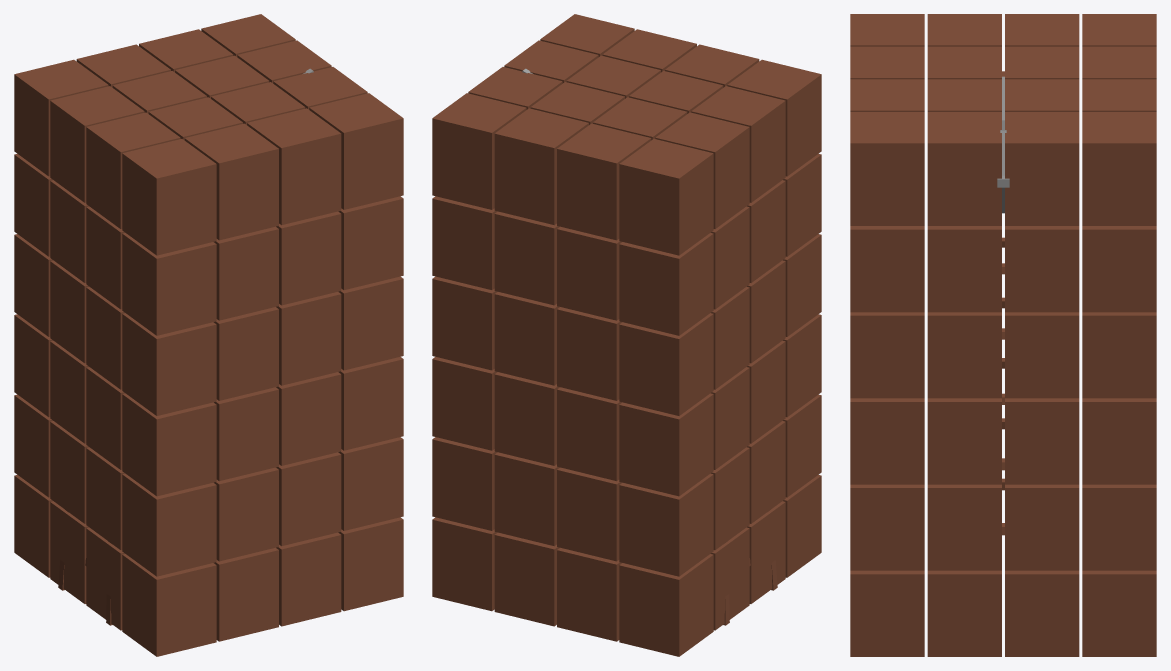
Rendered from Windmill_destructible.gltf.
3 renders of one model, left to right at view 1: azimuth 30°, elevation 25°; view 2: azimuth 150°, elevation 25°; view 3: azimuth 270°, elevation 25°, orthographic. The views are drawn at different scales.
Parts seen in each view (by area): view 1: block_f5_r3_c0, block_f3_r3_c0, block_f4_r3_c0, block_f0_r3_c0, block_f1_r3_c0, block_f2_r3_c0, block_f5_r3_c1, block_f5_r3_c2, block_f5_r3_c3, block_f0_r3_c3, block_f1_r3_c3, block_f3_r3_c3 (+39 smaller); view 2: block_f5_r0_c0, block_f3_r0_c0, block_f4_r0_c0, block_f0_r0_c0, block_f1_r0_c0, block_f2_r0_c0, block_f5_r0_c1, block_f5_r0_c2, block_f5_r0_c3, block_f0_r0_c3, block_f1_r0_c3, block_f3_r0_c3 (+39 smaller); view 3: block_f5_r1_c3, block_f5_r2_c3, block_f5_r0_c3, block_f5_r3_c3, block_f0_r0_c3, block_f0_r3_c3, block_f1_r0_c3, block_f1_r3_c3, block_f2_r0_c3, block_f2_r1_c3, block_f2_r2_c3, block_f2_r3_c3 (+24 smaller).
Boxes of the visible parts, <box> form: block_f5_r3_c0: <box>122,139,216,255</box>; block_f3_r3_c0: <box>122,313,216,415</box>; block_f4_r3_c0: <box>122,233,216,335</box>; block_f0_r3_c0: <box>122,554,216,656</box>; block_f1_r3_c0: <box>122,473,216,576</box>; block_f2_r3_c0: <box>122,393,216,496</box>; block_f5_r3_c1: <box>184,123,278,240</box>; block_f5_r3_c2: <box>247,108,341,225</box>; block_f5_r3_c3: <box>309,93,403,209</box>; block_f0_r3_c3: <box>338,517,403,611</box>; block_f1_r3_c3: <box>338,437,403,530</box>; block_f3_r3_c3: <box>338,276,403,370</box>; block_f5_r0_c0: <box>619,139,713,255</box>; block_f3_r0_c0: <box>619,313,713,415</box>; block_f4_r0_c0: <box>619,233,713,335</box>; block_f0_r0_c0: <box>619,554,713,656</box>; block_f1_r0_c0: <box>619,473,713,576</box>; block_f2_r0_c0: <box>619,393,713,496</box>; block_f5_r0_c1: <box>557,123,651,240</box>; block_f5_r0_c2: <box>494,108,588,225</box>; block_f5_r0_c3: <box>432,93,526,209</box>; block_f0_r0_c3: <box>432,517,497,611</box>; block_f1_r0_c3: <box>432,437,497,530</box>; block_f3_r0_c3: <box>432,276,497,370</box>; block_f5_r1_c3: <box>1003,112,1079,225</box>; block_f5_r2_c3: <box>927,112,1003,225</box>; block_f5_r0_c3: <box>1082,112,1156,225</box>; block_f5_r3_c3: <box>850,112,924,225</box>; block_f0_r0_c3: <box>1082,570,1156,656</box>; block_f0_r3_c3: <box>850,570,924,656</box>; block_f1_r0_c3: <box>1082,484,1156,570</box>; block_f1_r3_c3: <box>850,484,924,570</box>; block_f2_r0_c3: <box>1082,398,1156,484</box>; block_f2_r1_c3: <box>1005,398,1079,484</box>; block_f2_r2_c3: <box>927,398,1001,484</box>; block_f2_r3_c3: <box>850,398,924,484</box>.
Size of the model in its own units: 10 by 18.45 by 9.9.
